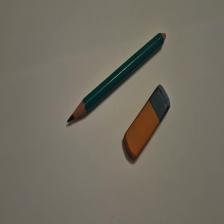eraser: (124, 84, 171, 161)
pencil: (68, 33, 167, 124)
